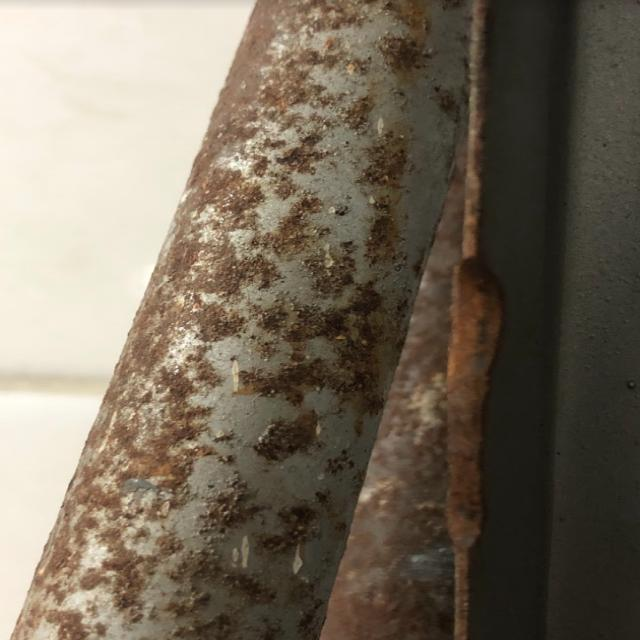Pitting Corrosion: (11, 0, 465, 639)
